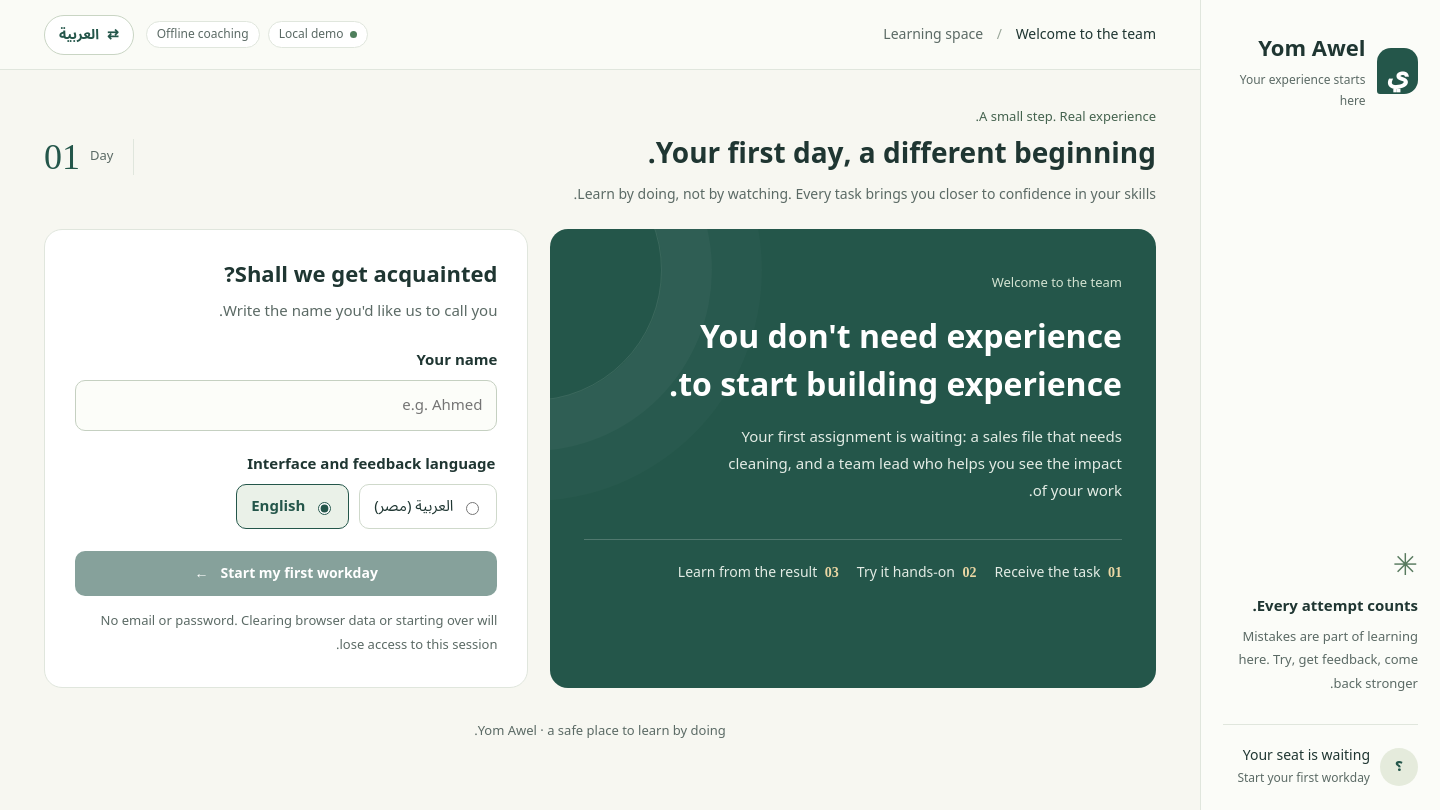
Scenario: Workplace against the typed contract mock › hides judge mode when the API does not offer samples
Type "Sara" into the field at point(286, 406), box [75,380,498,431]
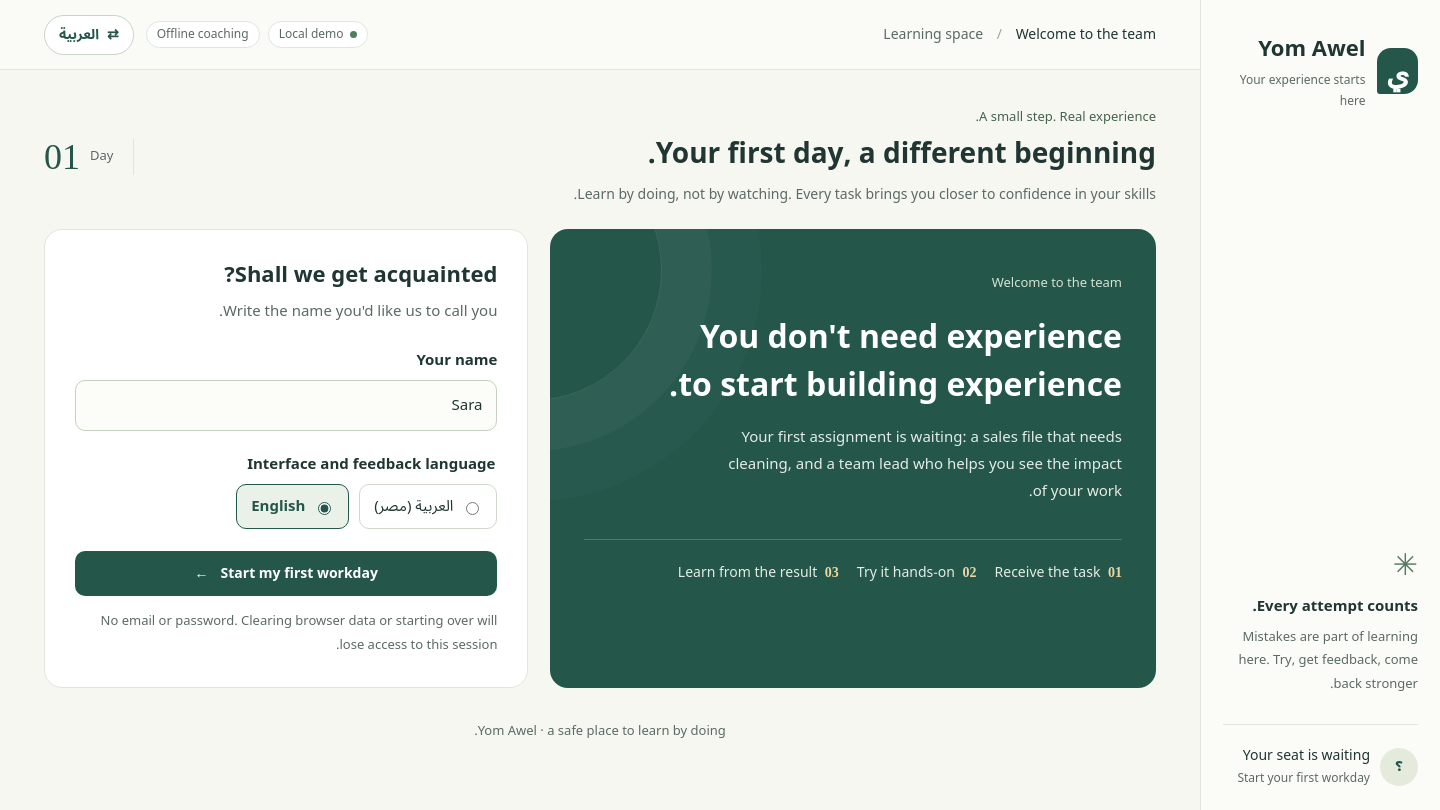
Click the button "Start my first workday" at point(286, 574), box [75,551,498,596]
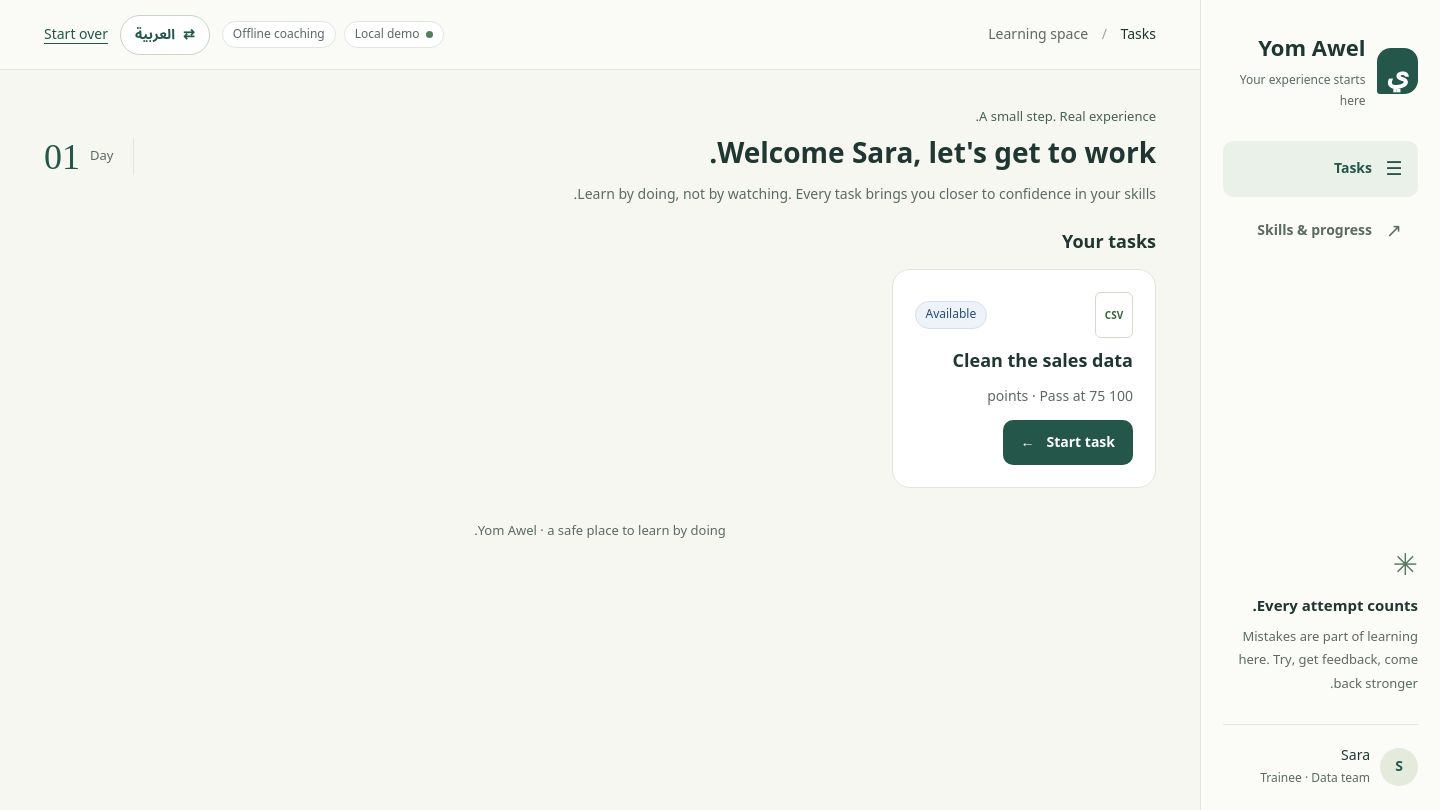
Click the button "Start task" at point(1068, 442), box [1002,420,1133,465]
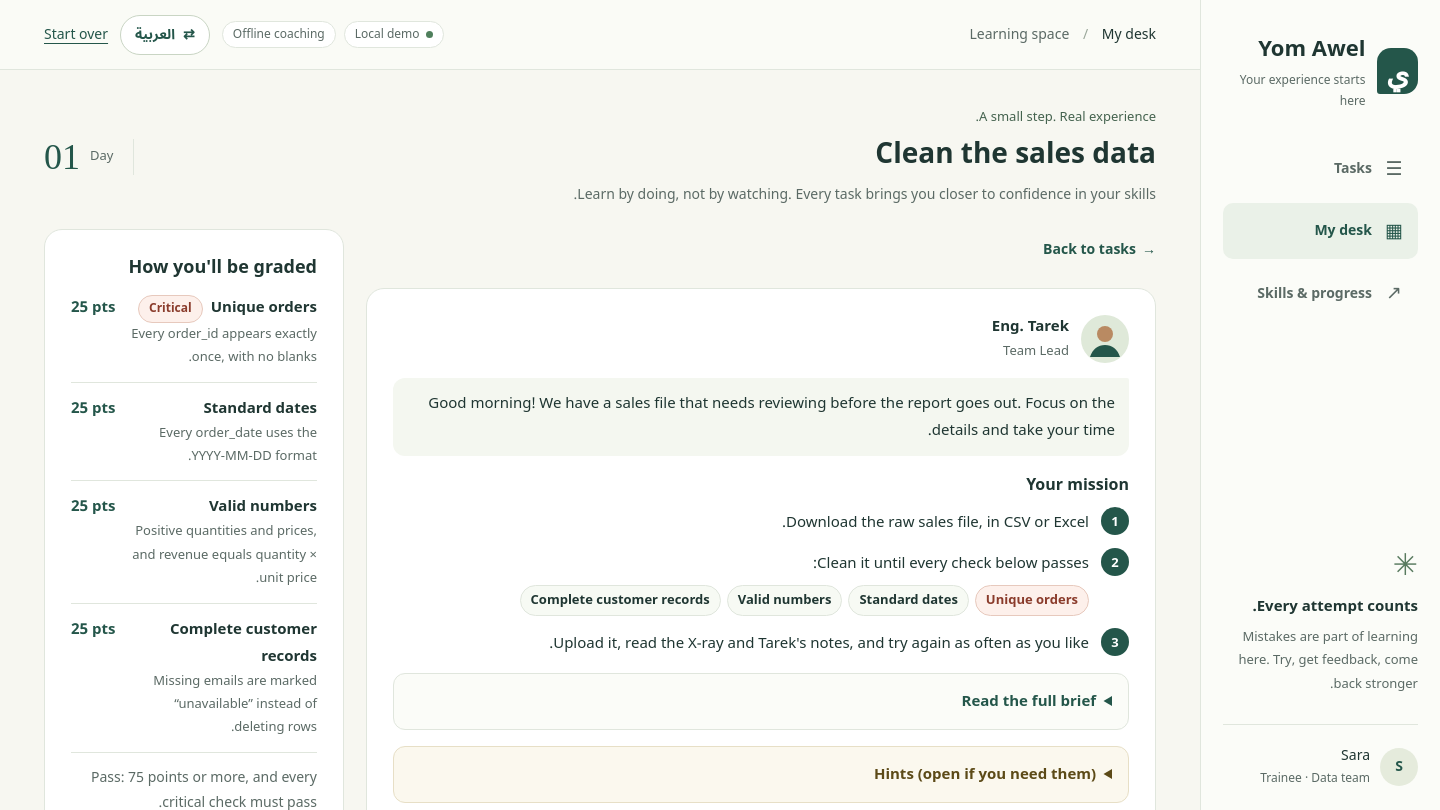
Expected: the heading "How you'll be graded" is shown, [128,248,317,286]
